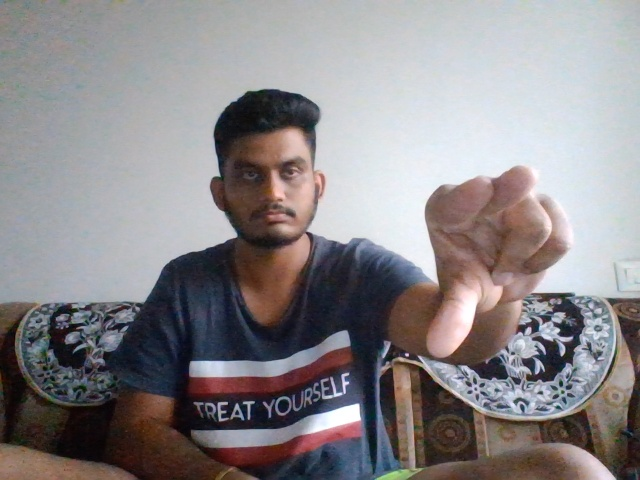No: (391, 165, 597, 365)
